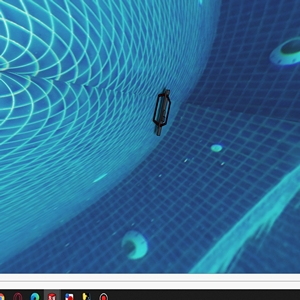submarine: (153, 88, 174, 134)
